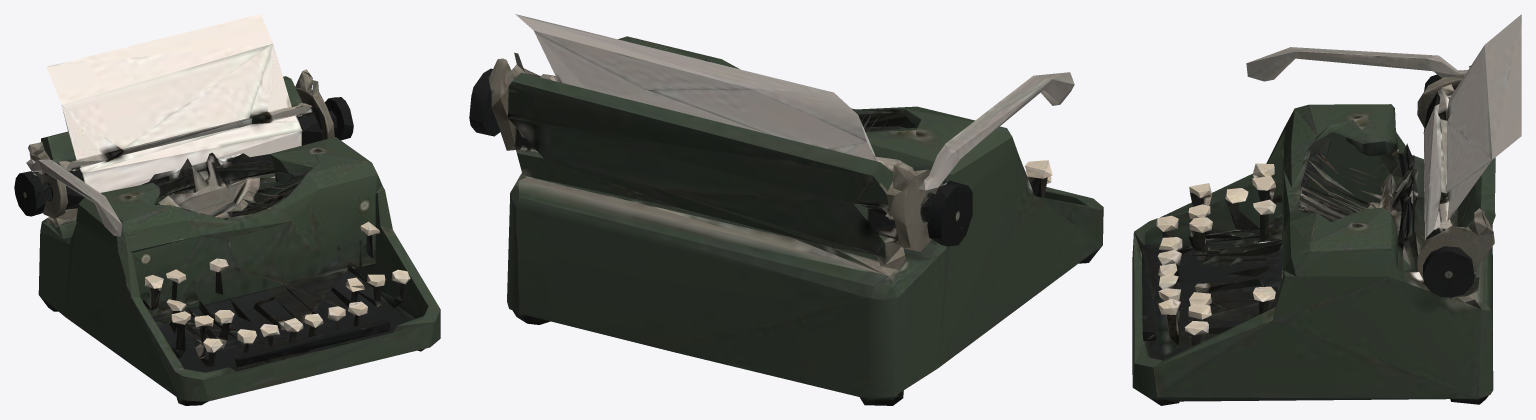
Rendered from typewriter.glb.
3 views of the same model, side by side, from view 1: azimuth 30°, elevation 25°; view 2: azimuth 150°, elevation 25°; view 3: azimuth 270°, elevation 25° (orthographic). The views are drawn at different scales.
Visible parts, largest first — view 1: output_unwrapped; view 2: output_unwrapped; view 3: output_unwrapped.
Part boxes in pixels (<box>): output_unwrapped: <box>14,14,440,405</box>; output_unwrapped: <box>469,14,1103,405</box>; output_unwrapped: <box>1132,14,1521,405</box>.
Bounding box in the file's own units: 1.9 × 1.27 × 1.72.
1 material, 1 textured.
